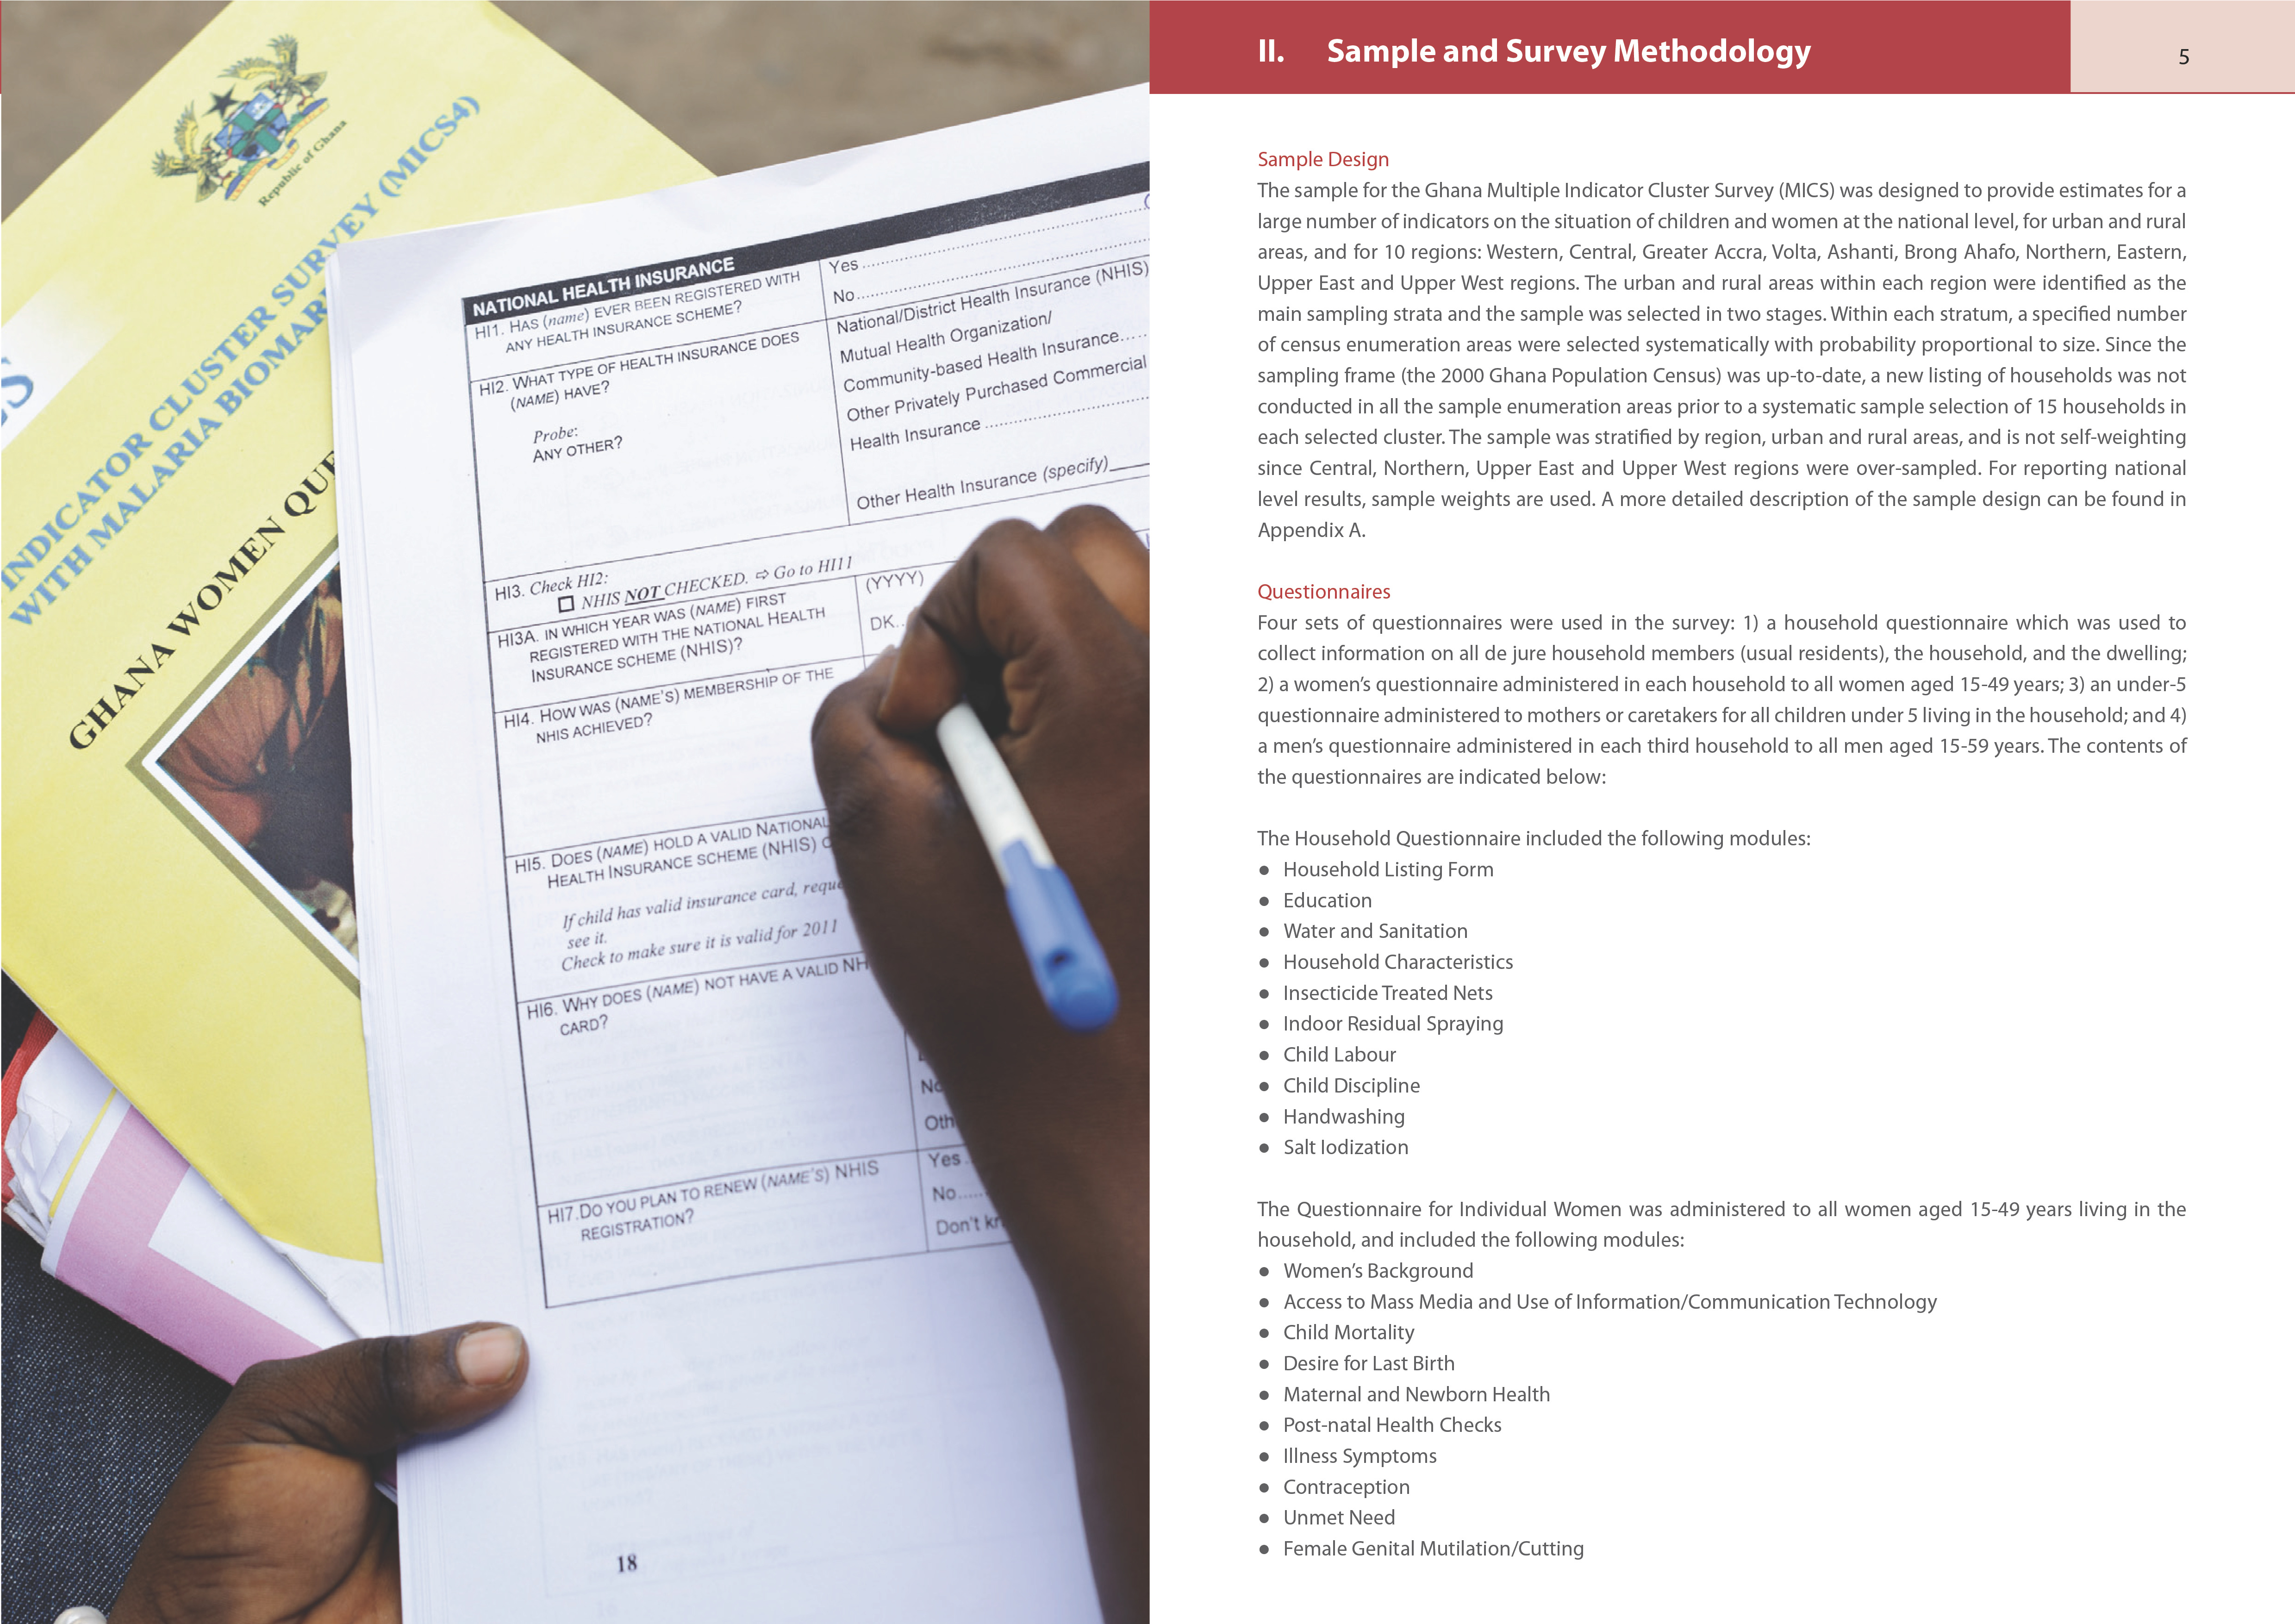figure: (7, 11, 1149, 1619)
list: (1249, 1267, 1952, 1575), (1242, 856, 1517, 1164)
section: (1232, 25, 1817, 77), (1232, 132, 1406, 176), (1225, 569, 1401, 610)
text: (1241, 176, 2221, 538), (1249, 610, 2216, 801), (1249, 1183, 2191, 1262), (1248, 823, 1824, 859)
